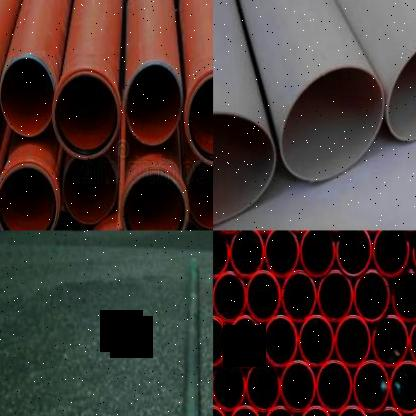pipe: (281, 66, 384, 182), (213, 112, 277, 228), (52, 67, 121, 160), (125, 61, 183, 145), (0, 53, 55, 136), (119, 168, 190, 230), (0, 159, 60, 230), (63, 153, 117, 224), (386, 35, 416, 140), (184, 67, 213, 166), (353, 269, 390, 322), (353, 360, 389, 414), (372, 315, 409, 367), (316, 360, 353, 412), (186, 159, 213, 229), (335, 315, 371, 367), (280, 360, 315, 413), (282, 270, 317, 322), (318, 270, 353, 322), (299, 315, 334, 367), (228, 315, 263, 367), (246, 271, 281, 322), (263, 316, 298, 367), (246, 360, 280, 412), (372, 231, 409, 278), (213, 271, 246, 322), (213, 360, 245, 412), (300, 231, 335, 278), (264, 231, 299, 278), (229, 231, 264, 278), (336, 230, 371, 276), (389, 361, 416, 414), (391, 269, 416, 322), (32, 210, 86, 230), (213, 230, 230, 278), (213, 316, 228, 367), (262, 405, 298, 416), (227, 405, 262, 416), (334, 405, 369, 416), (299, 405, 334, 416), (409, 315, 416, 369), (371, 406, 408, 416), (412, 230, 416, 276)
